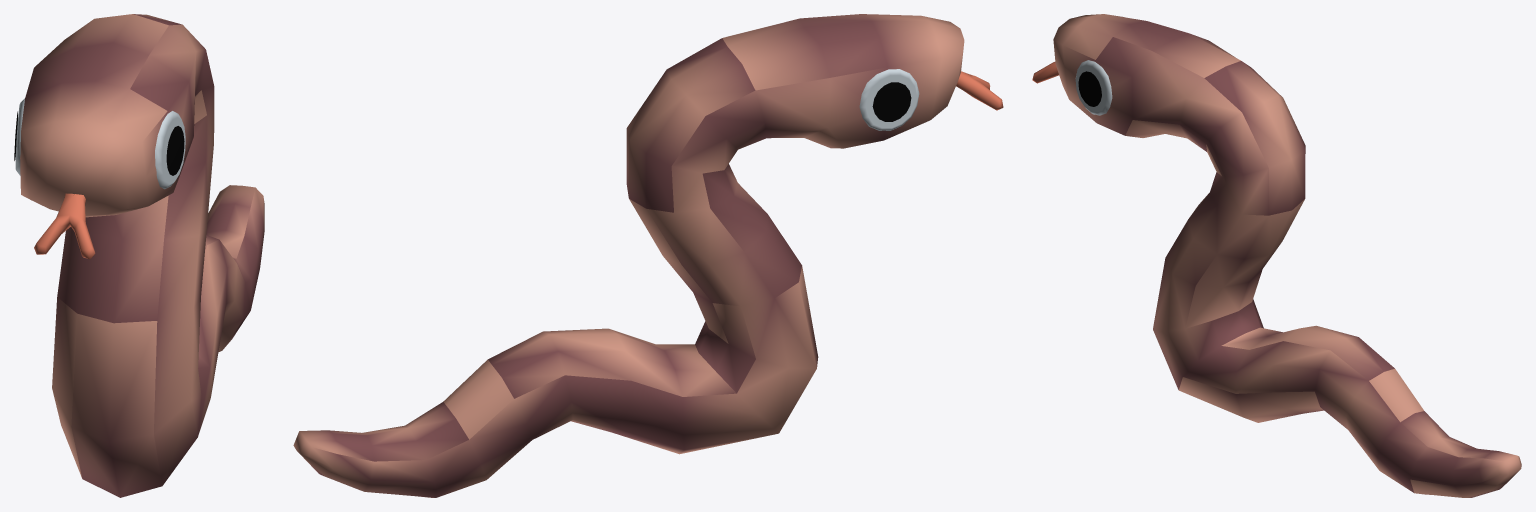
File: Python.glb
The picture shows the model from 3 angles, left to right: view 1: azimuth 30°, elevation 25°; view 2: azimuth 150°, elevation 25°; view 3: azimuth 270°, elevation 25°; orthographic projection. The views are drawn at different scales.
Visible parts, largest first — view 1: 132; view 2: 132; view 3: 132.
Part boxes in pixels (x1,y1,x2,y2): 132: (14,14,264,497); 132: (293,14,1003,497); 132: (1032,14,1521,497).
Bounding box in the file's own units: 0.8968 × 0.7997 × 0.985.
